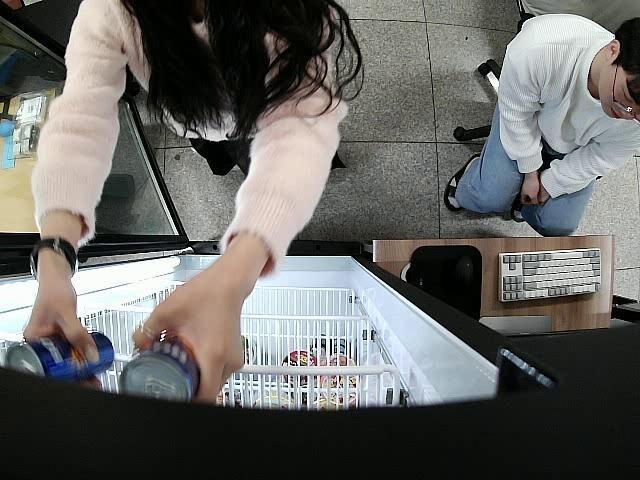16_hot6: (5, 330, 114, 380), (121, 337, 200, 402)
